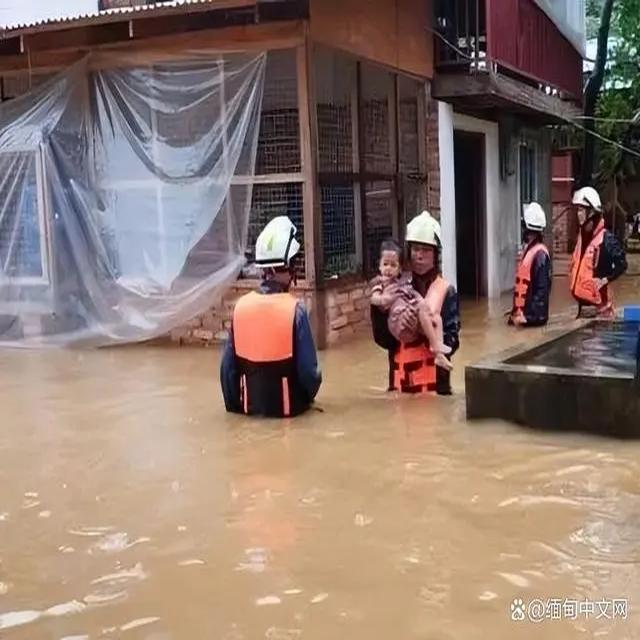Person-RiskLevel3: (208, 210, 332, 428), (353, 208, 483, 407), (561, 183, 625, 322), (498, 203, 554, 332)
